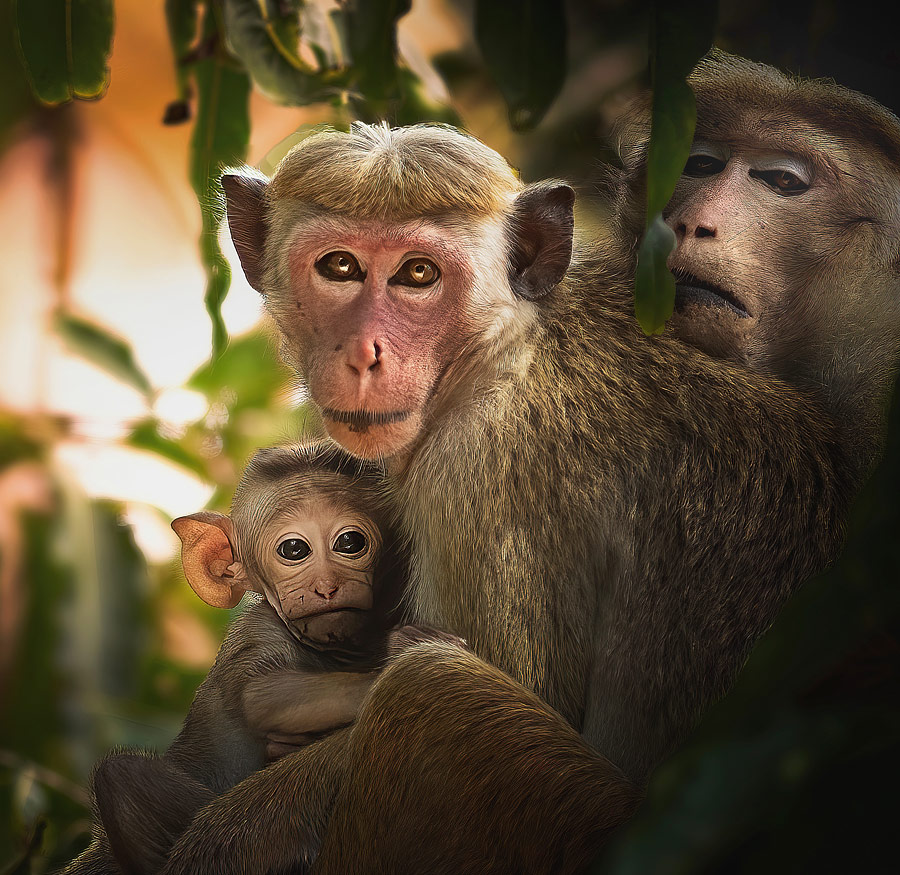Monkey: (183, 93, 596, 489)
